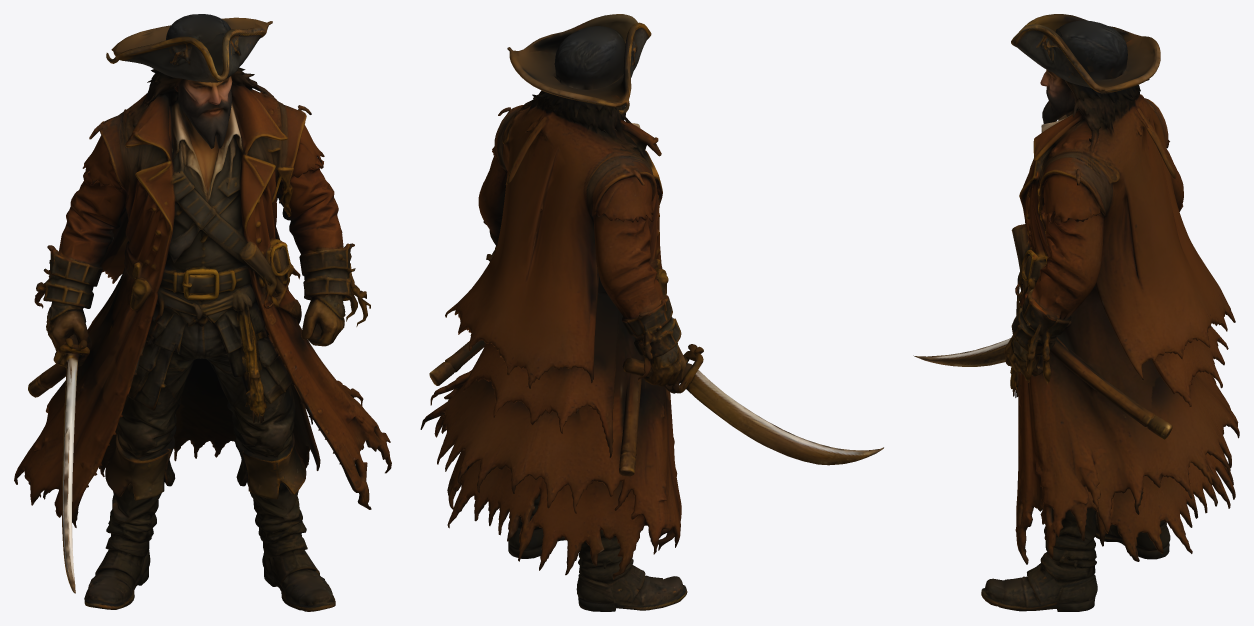
File: demo_conqueror_01.glb
3 views of the same model, side by side, from view 1: azimuth 30°, elevation 25°; view 2: azimuth 150°, elevation 25°; view 3: azimuth 270°, elevation 25° (orthographic). The views are drawn at different scales.
Parts seen in each view (by area): view 1: node_0; view 2: node_0; view 3: node_0.
Boxes of the visible parts, <box> form: node_0: <box>14,14,391,611</box>; node_0: <box>420,14,883,611</box>; node_0: <box>913,14,1239,611</box>.
Size of the model in its own units: 0.7797 by 1.09 by 0.5936.
1 material, 1 textured.
